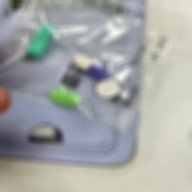러키펜정: (95, 79, 121, 99)
씨엠지세파클러캡슐: (73, 55, 110, 81)
에르도캡슐: (27, 24, 55, 58)
휴티렌정: (48, 90, 82, 106)
